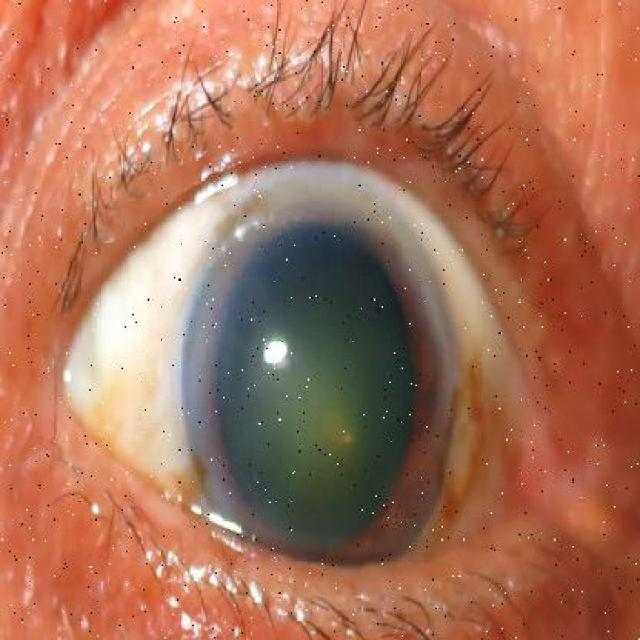Cataract: (154, 154, 486, 604)
